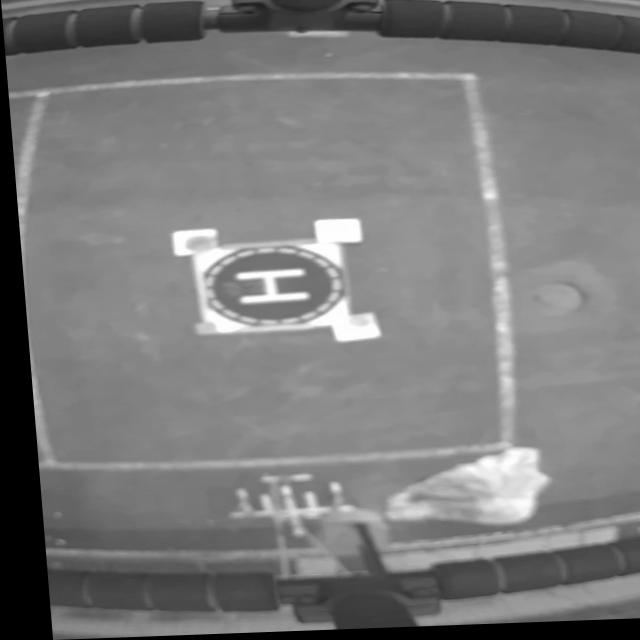Helipad: (229, 271, 303, 305)
